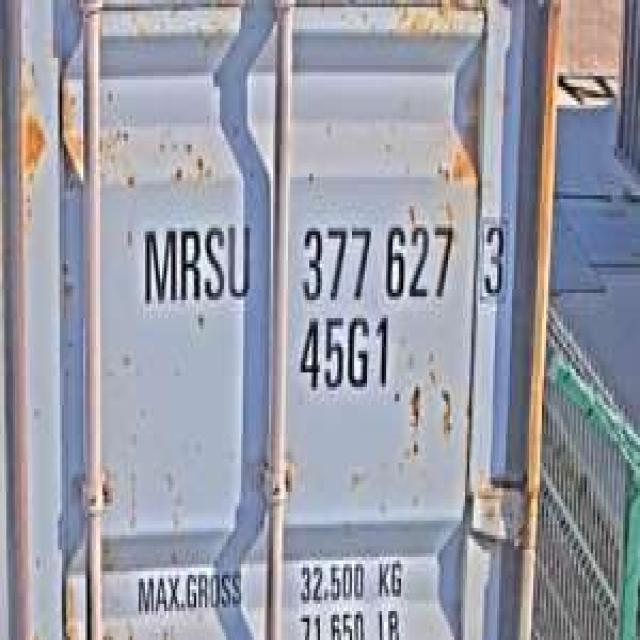dv: (473, 210, 510, 304)
owner: (136, 210, 254, 311)
serial: (292, 206, 459, 307)
size: (292, 307, 393, 398)
